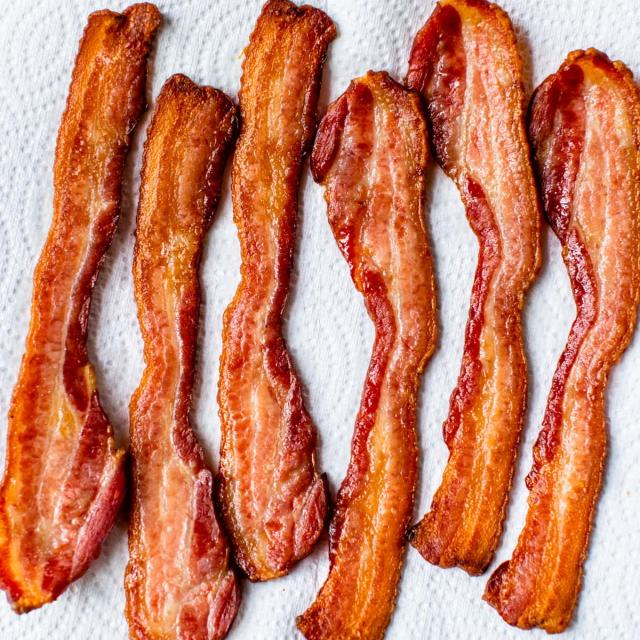Bacon: (0, 4, 161, 612), (485, 49, 640, 632), (297, 71, 437, 640), (405, 0, 542, 575), (218, 0, 336, 581), (125, 74, 240, 640)
